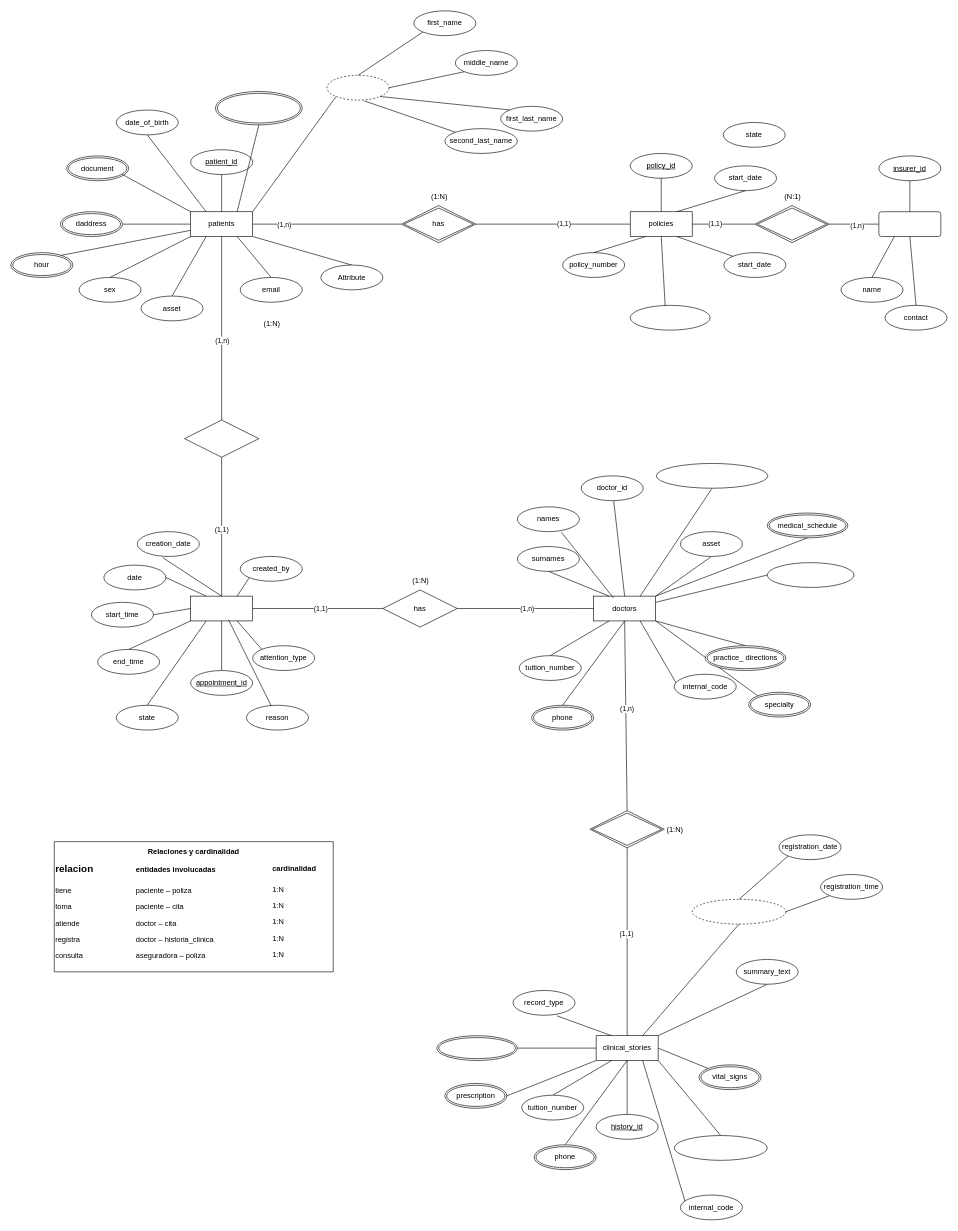
Some shapes in this 958 by 1231 pixel diagram are drawn without their labels. Each missing label, with the centre of its shape:
consultation: point 791,224
coverage_summary: point 670,317
date_time_registration: point 739,911
emergency_contact: point 258,108
full_name: point 357,87
history_diagnosis: point 476,1048
hospital_admission_date: point 712,475
insurers: point 909,224
professional_email: point 810,574
quotes: point 221,608
register: point 626,829
structured_summary: point 720,1147
take: point 221,438
